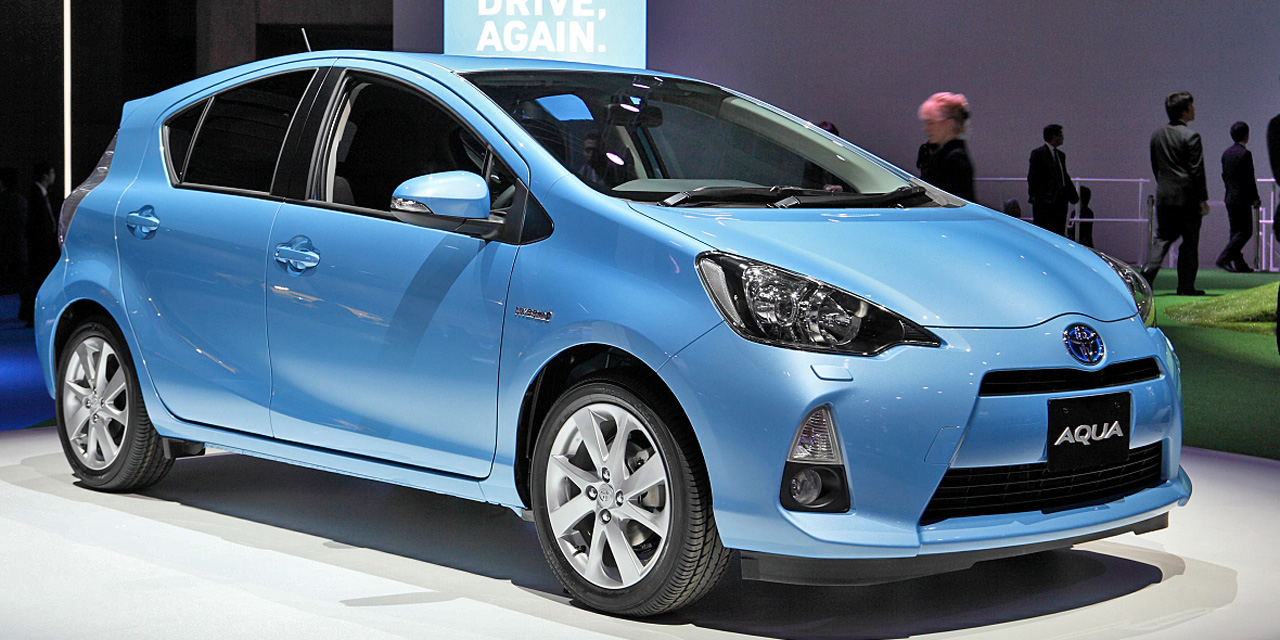front_view: (188, 86, 461, 179)
headlight: (237, 102, 298, 130)
side_glass: (55, 11, 144, 78)
